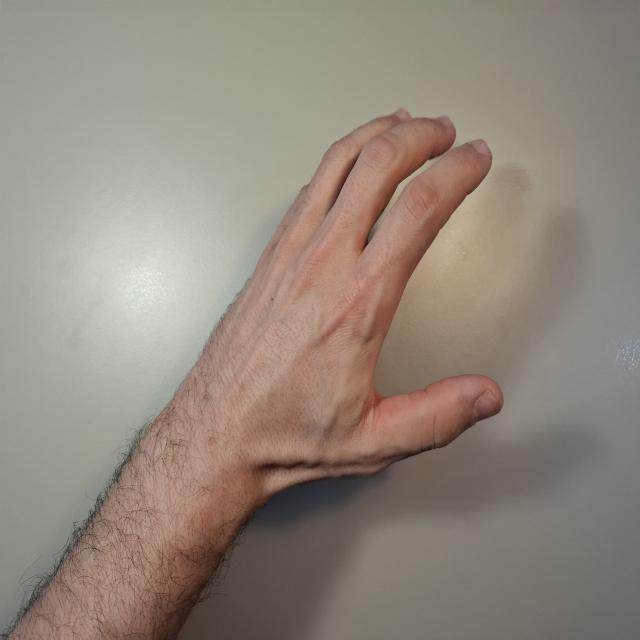glove_off: (211, 104, 506, 504)
